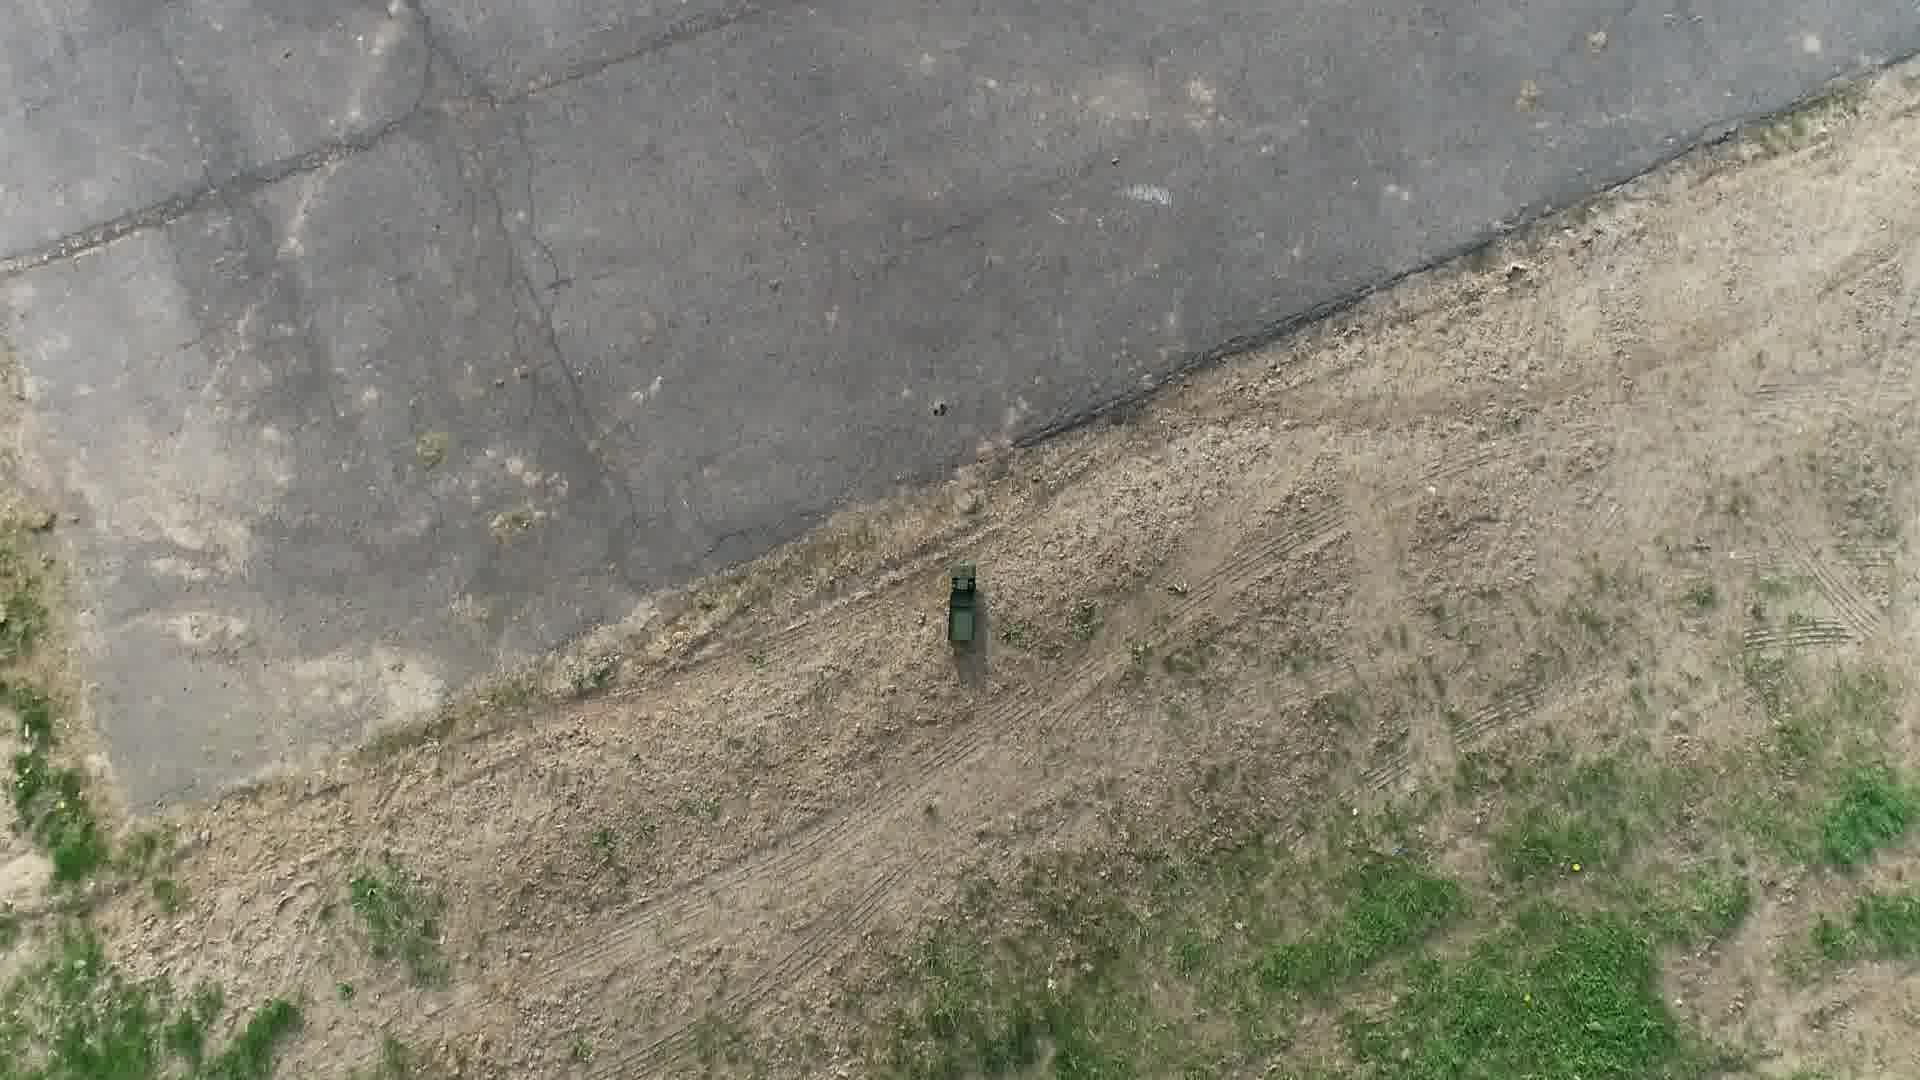transporter9: (944, 562, 982, 654)
